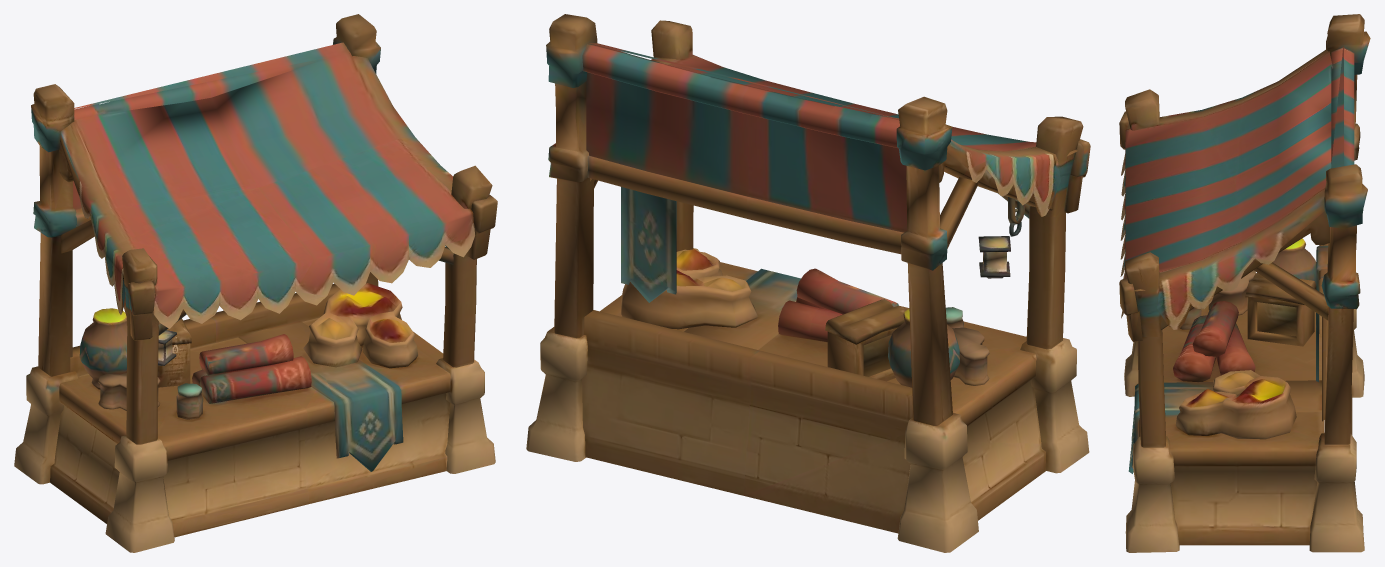
The model's file is SM_Tripo_DesertMarketStall.glb.
The picture shows the model from 3 angles, left to right: view 1: azimuth 30°, elevation 25°; view 2: azimuth 150°, elevation 25°; view 3: azimuth 270°, elevation 25°; orthographic projection. The views are drawn at different scales.
Parts seen in each view (by area): view 1: SM_Tripo_DesertMarketStall_LOD0; view 2: SM_Tripo_DesertMarketStall_LOD0; view 3: SM_Tripo_DesertMarketStall_LOD0.
Part boxes in pixels (x1=…): SM_Tripo_DesertMarketStall_LOD0: x1=14, y1=14, x2=497, y2=552; SM_Tripo_DesertMarketStall_LOD0: x1=526, y1=14, x2=1090, y2=552; SM_Tripo_DesertMarketStall_LOD0: x1=1119, y1=14, x2=1370, y2=552.
Bounding box in the file's own units: 3.7 × 3.6 × 2.2.
1 material, 1 textured.
